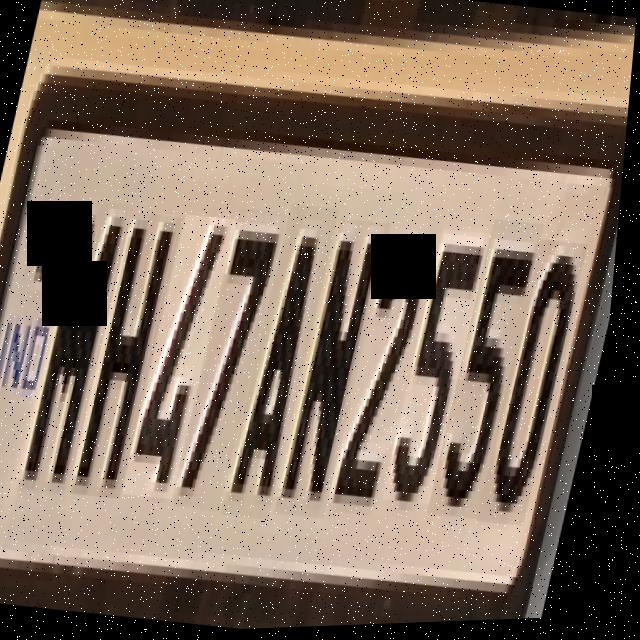0: (486, 243, 593, 532)
4: (130, 216, 240, 504)
5: (436, 222, 549, 525), (392, 232, 496, 509)
7: (182, 209, 292, 515)
A: (230, 206, 344, 524)
H: (79, 212, 188, 502)
M: (24, 199, 134, 497)
N: (283, 220, 396, 523)
